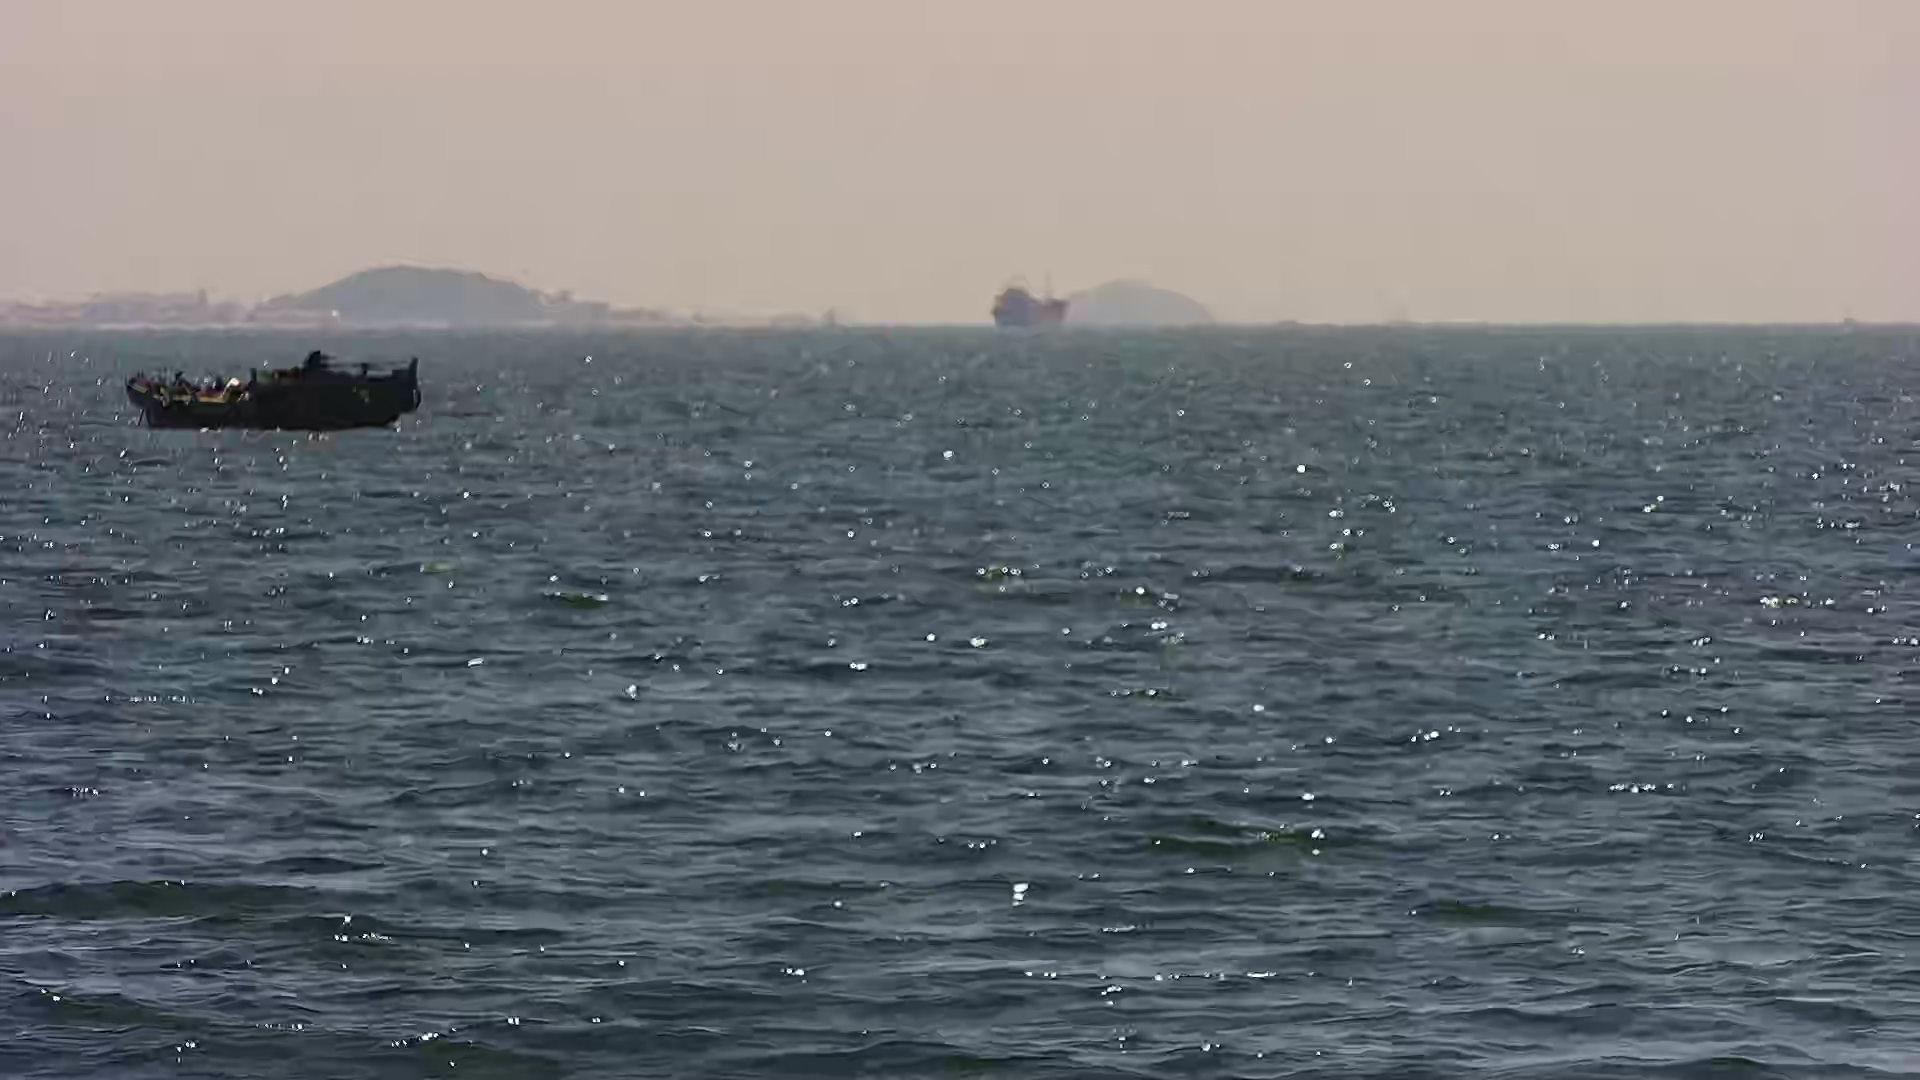boat: (127, 353, 422, 433)
rock: (272, 252, 716, 323), (1051, 272, 1222, 324)
ship: (992, 284, 1076, 328)
